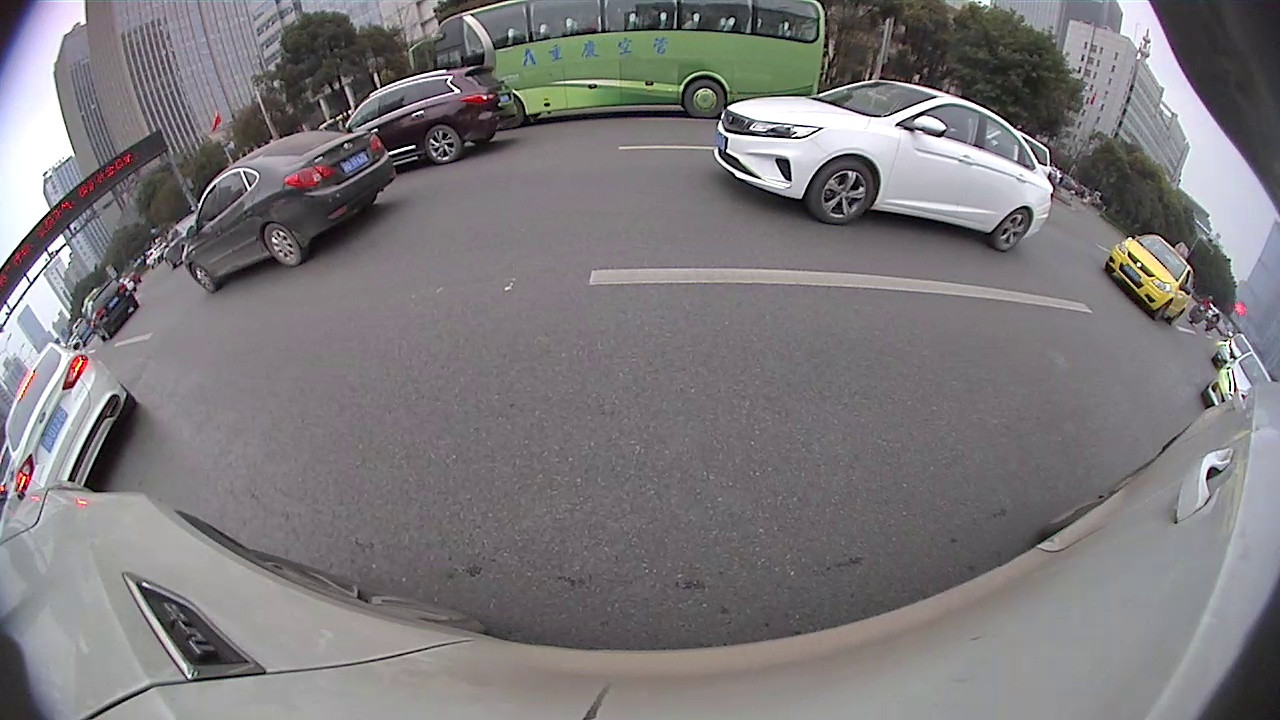bus: (405, 1, 829, 122)
car: (711, 75, 1057, 256), (177, 127, 398, 297), (7, 340, 140, 496), (346, 59, 519, 168), (1107, 227, 1195, 324), (1200, 346, 1270, 412)
front: (807, 158, 877, 223), (192, 263, 217, 294)
rear: (264, 221, 302, 269), (994, 208, 1032, 252), (684, 80, 725, 119), (425, 126, 462, 163)
